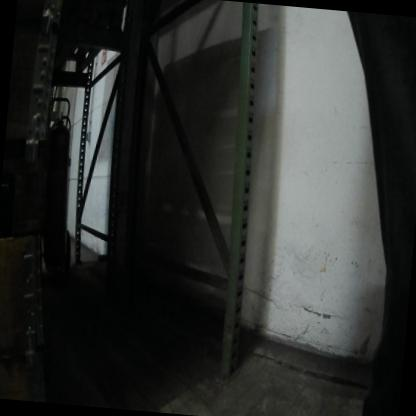pallet: (27, 0, 132, 97)
